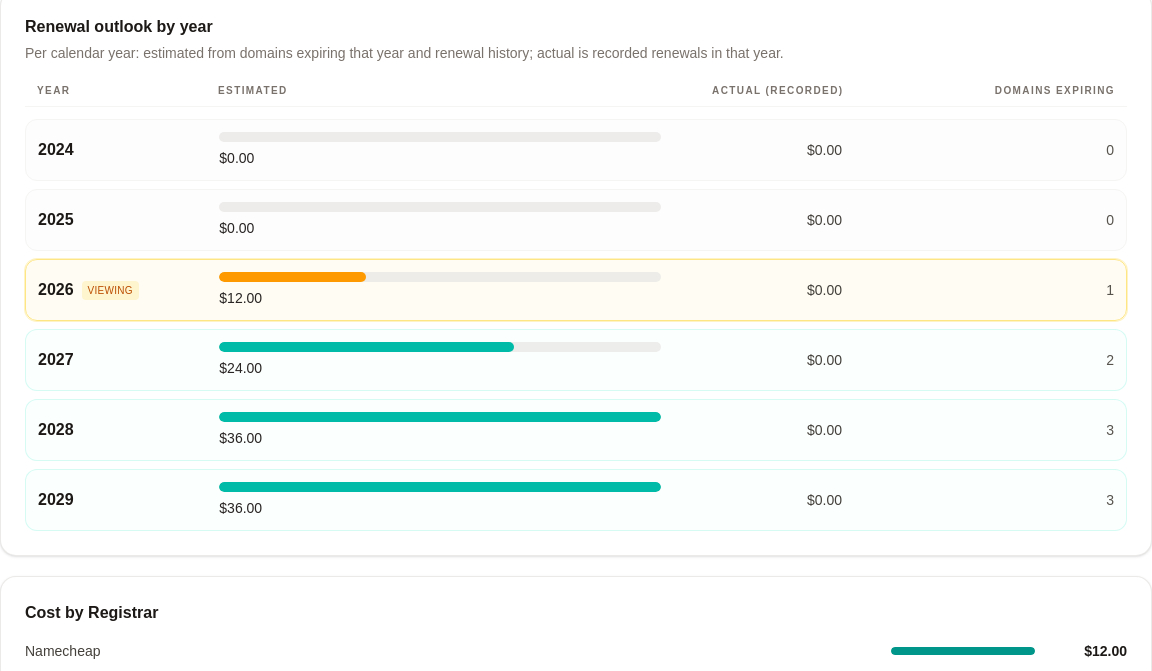
AdvancedRenewalAnalysis — 年度展望 › 点某一年就切过去，不用滚回页首的下拉
(page scrolled)
Click the button "2027 $24.00 $0.00 2": (56, 360) [25,329,1127,391]
(page scrolled)
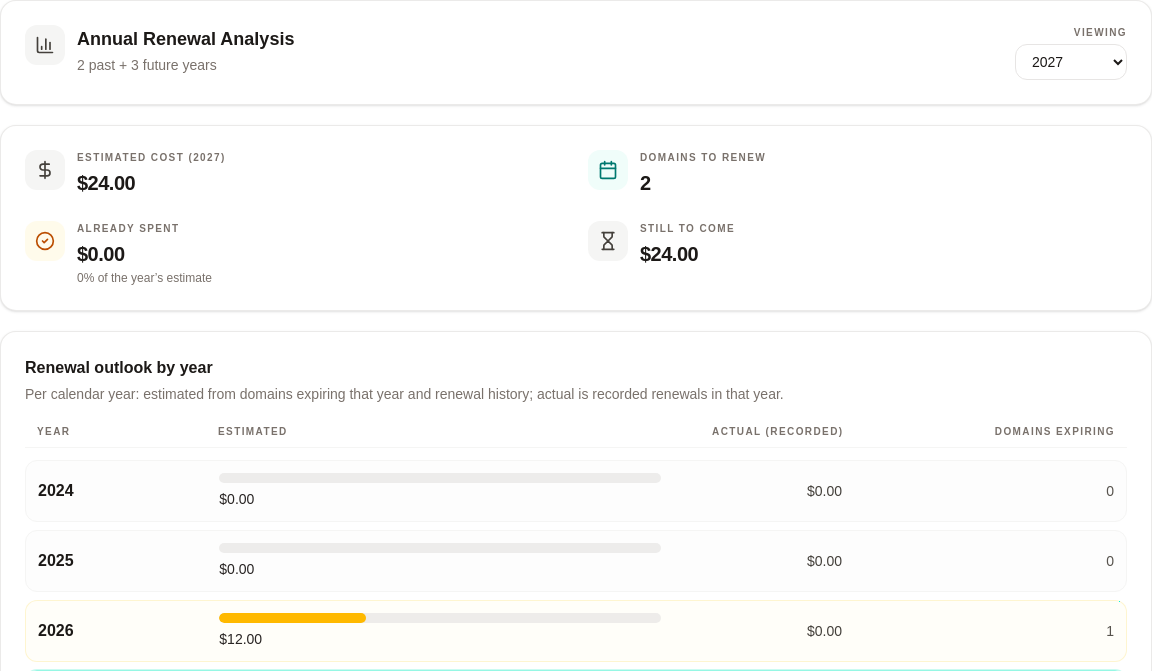
Result: the dropdown shows "2027" at [1015,44,1127,80]
